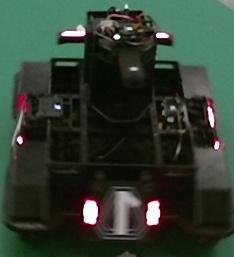armor_1: (82, 199, 161, 227)
